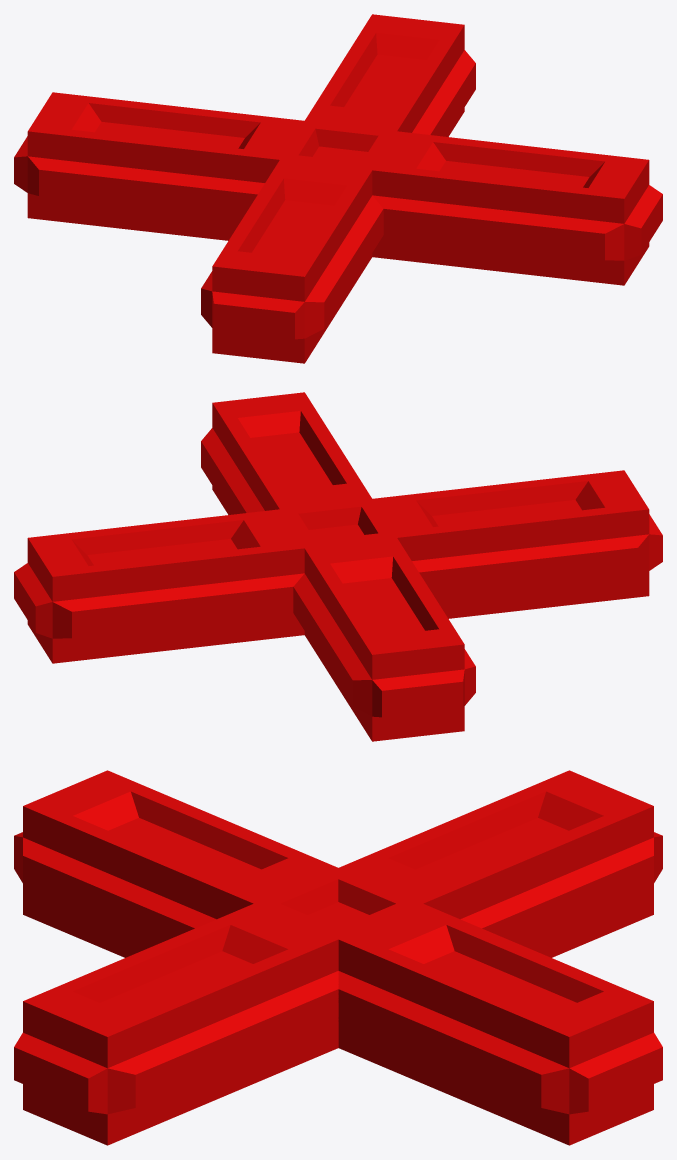
The model's file is ui_cha.fbx.
The picture shows the model from 3 angles, top to bottom: view 1: azimuth 30°, elevation 25°; view 2: azimuth 150°, elevation 25°; view 3: azimuth 270°, elevation 25°; orthographic projection. The views are drawn at different scales.
Visible parts, largest first — view 1: polySurface47; view 2: polySurface47; view 3: polySurface47.
Boxes of the visible parts, bbox=[...] form: polySurface47: bbox=[14, 14, 662, 363]; polySurface47: bbox=[14, 392, 662, 741]; polySurface47: bbox=[14, 770, 662, 1145].
Size of the model in its own units: 0.5574 by 0.1029 by 0.5574.
